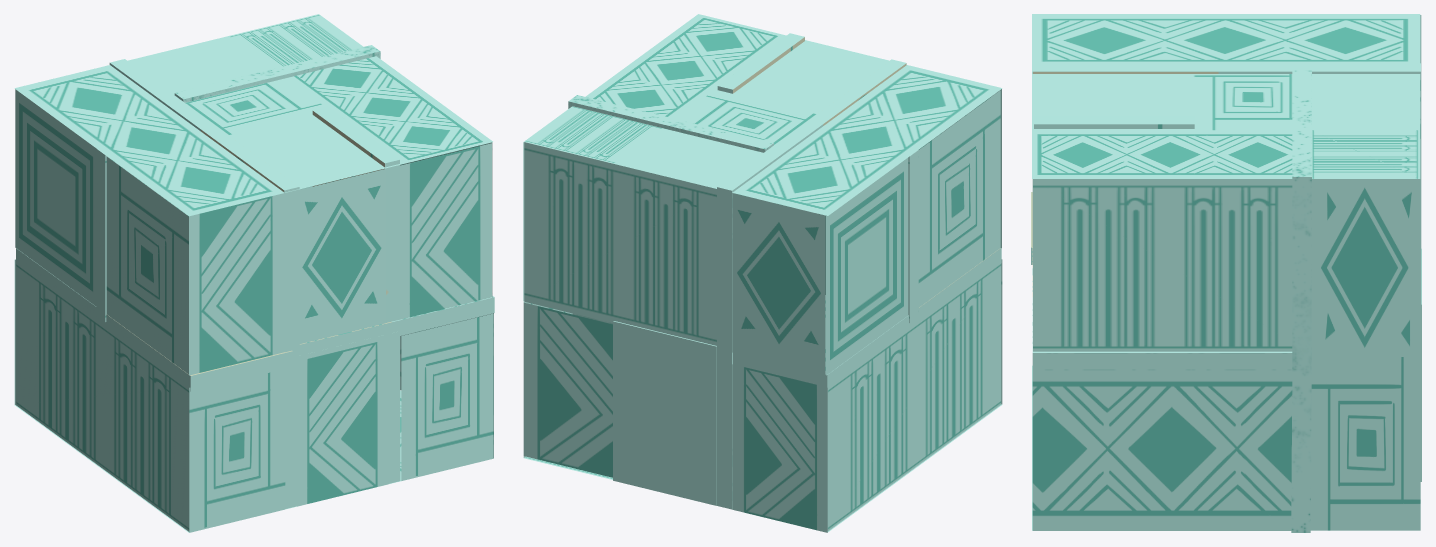
File: level05——— Revise.fbx
3 renders of one model, left to right at view 1: azimuth 30°, elevation 25°; view 2: azimuth 150°, elevation 25°; view 3: azimuth 270°, elevation 25°, orthographic. The views are drawn at different scales.
Visible parts, largest first — view 1: Plane.080, Plane.090, Plane.070, Plane.072, Plane.073, Plane.075, Plane.071, Plane.074, Plane.088, Plane.089, Cube.009, Cube.012 (+5 smaller); view 2: Plane.080, Plane.091, Plane.090, Cube.015, Plane.083, Plane.084, Plane.082, Plane.089, Plane.088, Cube.009, Cube.012, Cube.014 (+2 smaller); view 3: Plane.080, Plane.085, Plane.050, Plane.087, Plane.086, Cube.014, Cube.011, Cube.009, Cube.007, Cube.015.
Boxes of the visible parts, left/top/right/bottom form: Plane.080: left=14, top=14, right=492, bottom=216; Plane.090: left=15, top=260, right=189, bottom=531; Plane.070: left=189, top=193, right=284, bottom=375; Plane.072: left=399, top=143, right=491, bottom=319; Plane.073: left=189, top=369, right=285, bottom=532; Plane.075: left=401, top=313, right=493, bottom=480; Plane.071: left=299, top=169, right=385, bottom=343; Plane.074: left=297, top=339, right=388, bottom=506; Plane.088: left=106, top=157, right=188, bottom=374; Plane.089: left=15, top=89, right=96, bottom=306; Cube.009: left=109, top=59, right=299, bottom=508; Cube.012: left=16, top=248, right=292, bottom=391; Plane.080: left=524, top=14, right=1002, bottom=215; Plane.091: left=524, top=142, right=716, bottom=345; Plane.090: left=827, top=260, right=1001, bottom=531; Cube.015: left=613, top=321, right=716, bottom=505; Plane.083: left=732, top=193, right=825, bottom=375; Plane.084: left=732, top=364, right=827, bottom=532; Plane.082: left=523, top=302, right=612, bottom=477; Plane.089: left=826, top=157, right=908, bottom=375; Plane.088: left=918, top=90, right=1000, bottom=307; Cube.009: left=717, top=59, right=906, bottom=509; Cube.012: left=733, top=248, right=1001, bottom=386; Cube.014: left=568, top=95, right=773, bottom=324; Plane.080: left=1032, top=14, right=1420, bottom=178; Plane.085: left=1033, top=179, right=1312, bottom=351; Plane.050: left=1032, top=370, right=1292, bottom=530; Plane.087: left=1312, top=179, right=1421, bottom=356; Plane.086: left=1310, top=357, right=1420, bottom=530; Cube.014: left=1291, top=70, right=1311, bottom=532; Cube.011: left=1032, top=247, right=1292, bottom=370; Cube.009: left=1032, top=63, right=1420, bottom=246; Cube.007: left=1034, top=116, right=1194, bottom=128; Cube.015: left=1312, top=248, right=1421, bottom=481.
Bounding box in the file's own units: 609 × 606 × 601.
